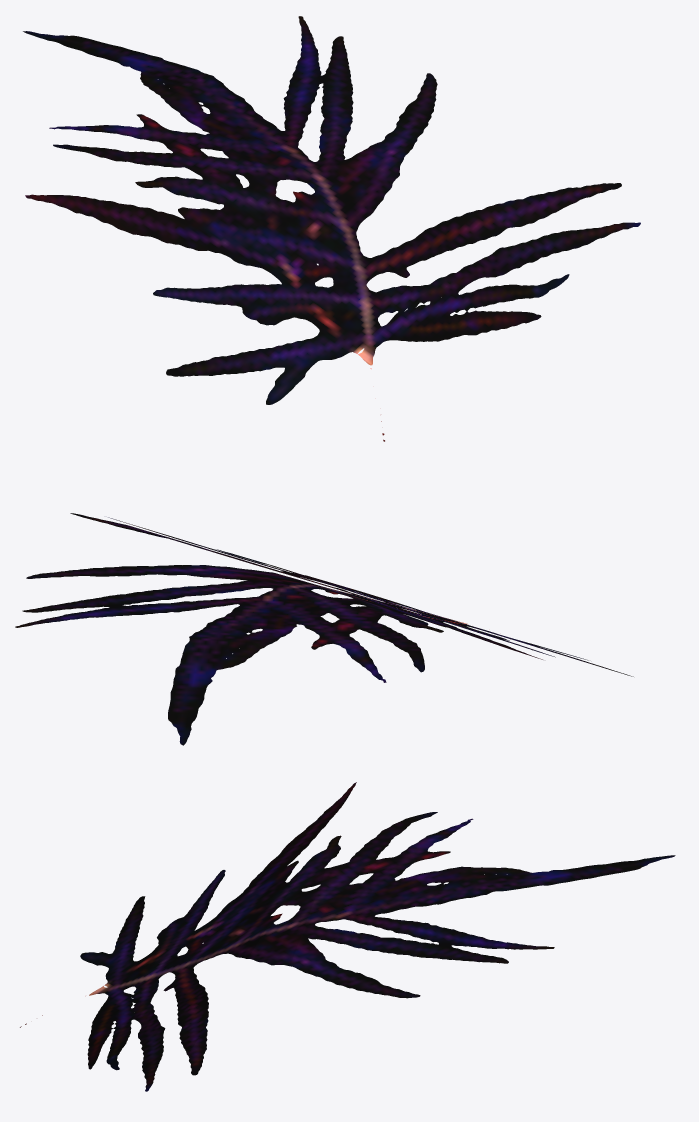
The model's file is Painter Wort Leaf C.fbx.
3 renders of one model, top to bottom at view 1: azimuth 30°, elevation 25°; view 2: azimuth 150°, elevation 25°; view 3: azimuth 270°, elevation 25°, orthographic. The views are drawn at different scales.
Visible parts, largest first — view 1: Painter Wort Leaf C; view 2: Painter Wort Leaf C; view 3: Painter Wort Leaf C.
Boxes of the visible parts, x1,y1,x2,y2 form: Painter Wort Leaf C: (23,16,640,441); Painter Wort Leaf C: (15,513,633,745); Painter Wort Leaf C: (20,782,675,1091).
Bounding box in the file's own units: 64 × 19.76 × 68.76.
